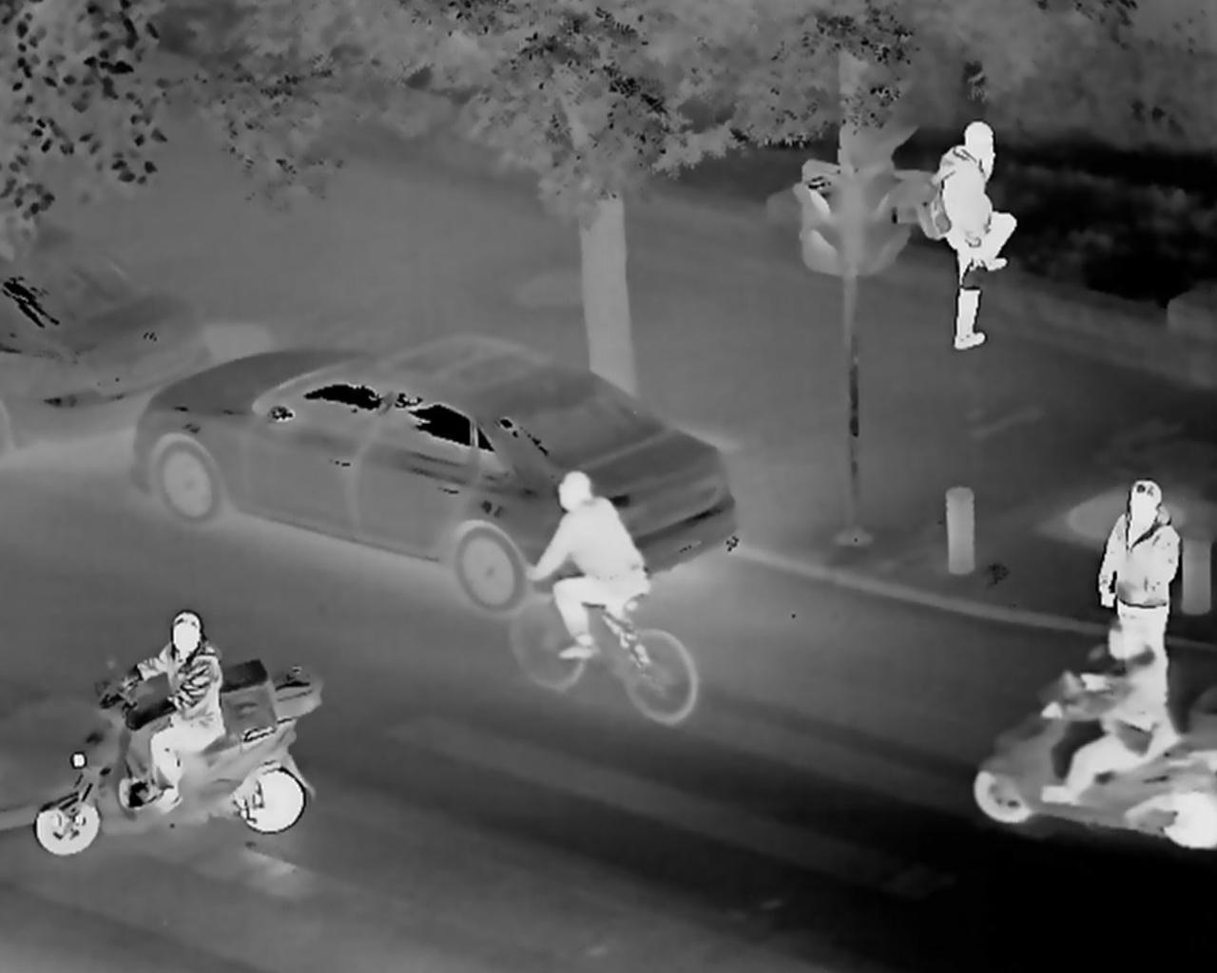person: (528, 467, 653, 661), (931, 120, 1030, 352), (1058, 620, 1174, 808), (1091, 482, 1194, 684), (122, 609, 226, 799)
